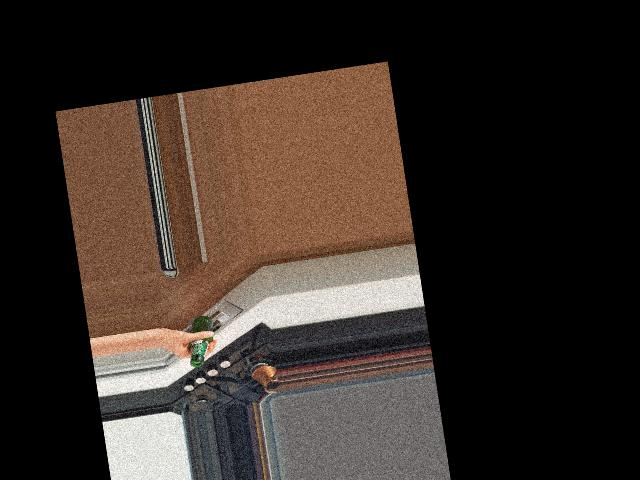beer: (183, 314, 218, 367)
